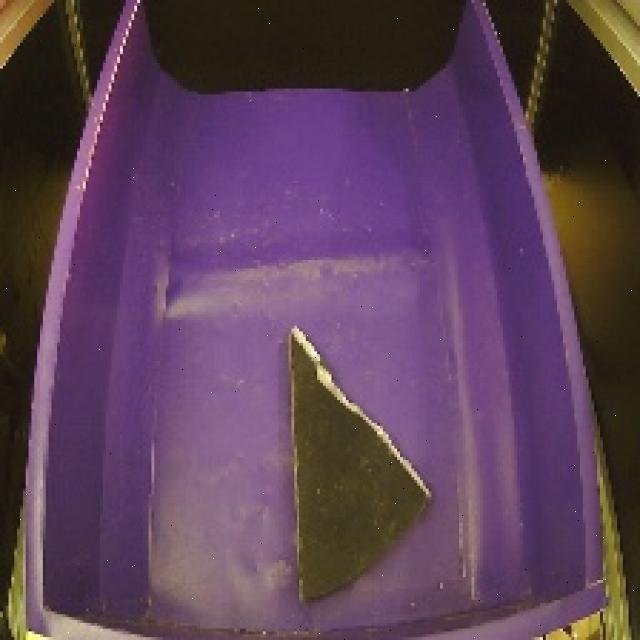china: (274, 320, 441, 615)
